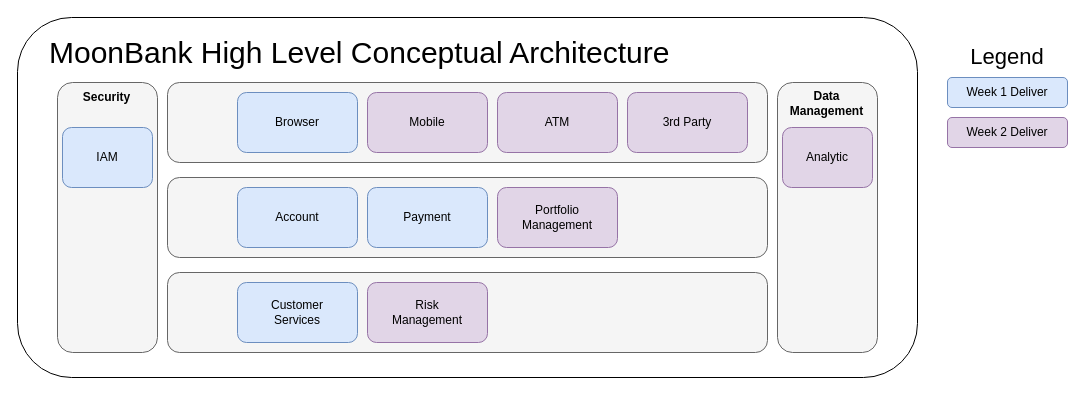
Some shapes in this 1085 by 395 pixel diagram are drawn without their labels. Each missing label, with the box of its shape:
Banking Services: (166, 176, 768, 258)
Business Functions: (166, 272, 768, 352)
Channel: (166, 82, 768, 162)
